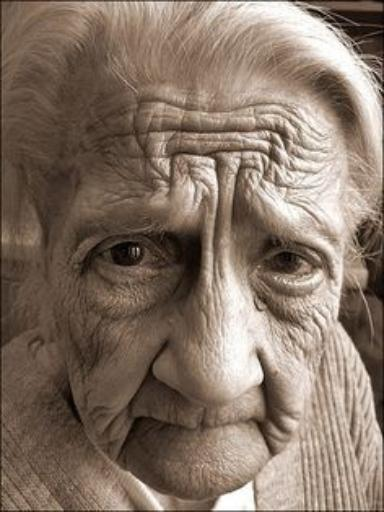left_eye: (264, 250, 322, 284)
left_lip_corner: (247, 414, 268, 434)
right_eye: (85, 237, 172, 279)
right_lip_corner: (134, 410, 161, 428)
